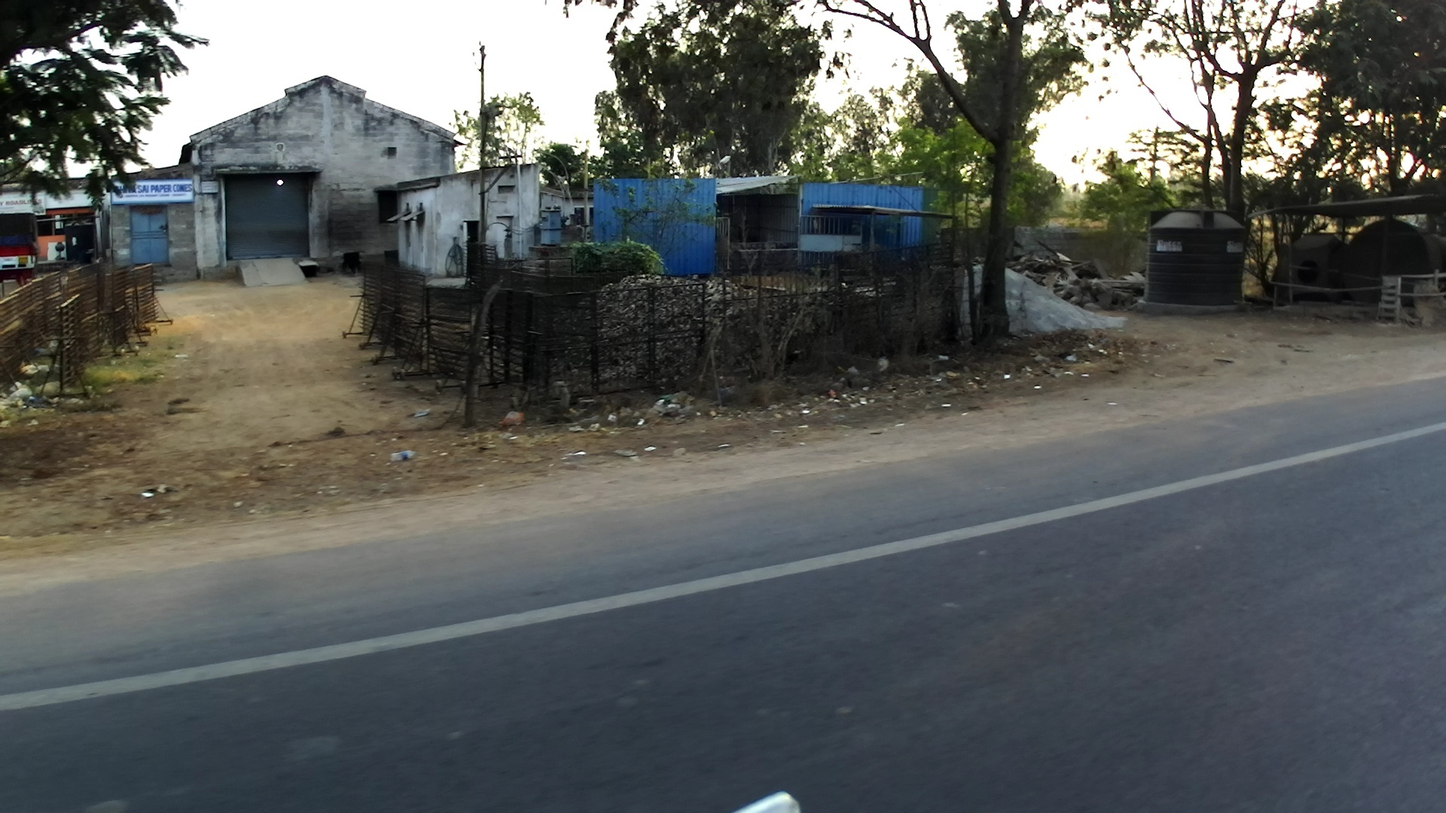vehicle fallback: (1, 209, 41, 289)
